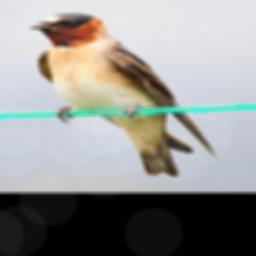Swallow: (28, 12, 218, 177)
